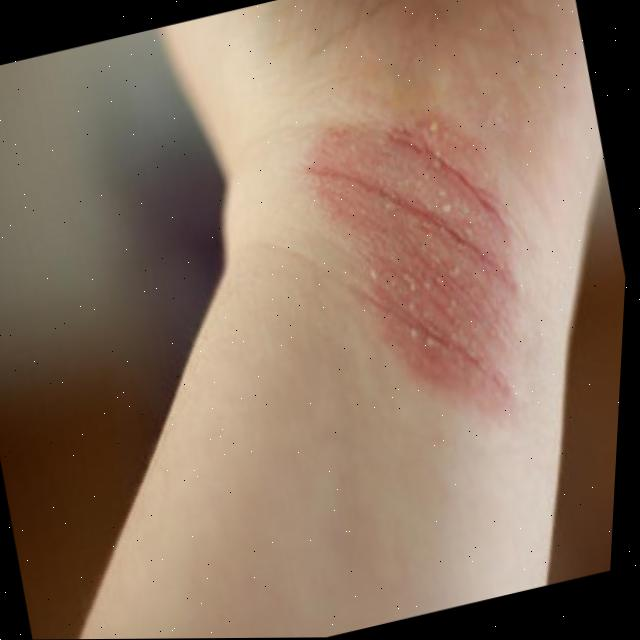Eczema: (277, 85, 554, 455)
